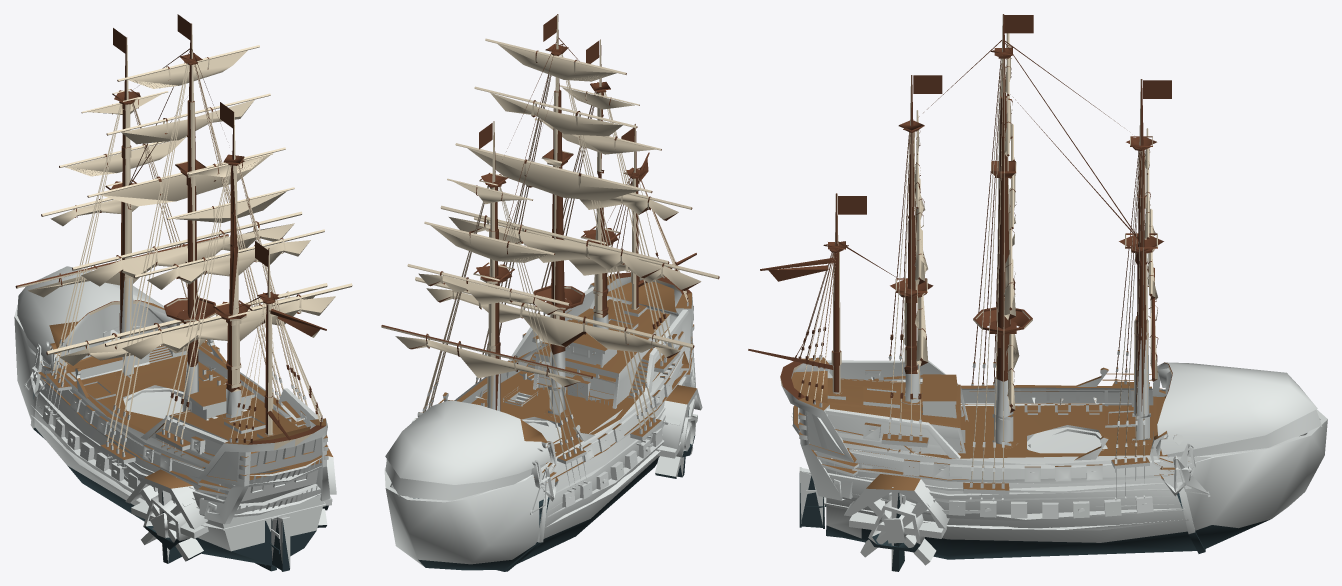
Rendered from moby-dick-low.glb.
The picture shows the model from 3 angles, left to right: view 1: azimuth 30°, elevation 25°; view 2: azimuth 150°, elevation 25°; view 3: azimuth 270°, elevation 25°; orthographic projection. The views are drawn at different scales.
Parts seen in each view (by area): view 1: Object_2.021; view 2: Object_2.021; view 3: Object_2.021.
Part boxes in pixels (x1,y1,x2,y2): Object_2.021: (14, 14, 352, 571); Object_2.021: (381, 14, 719, 571); Object_2.021: (748, 14, 1327, 571).
Size of the model in its own units: 72.79 by 124 by 122.
1 material, 1 textured.
